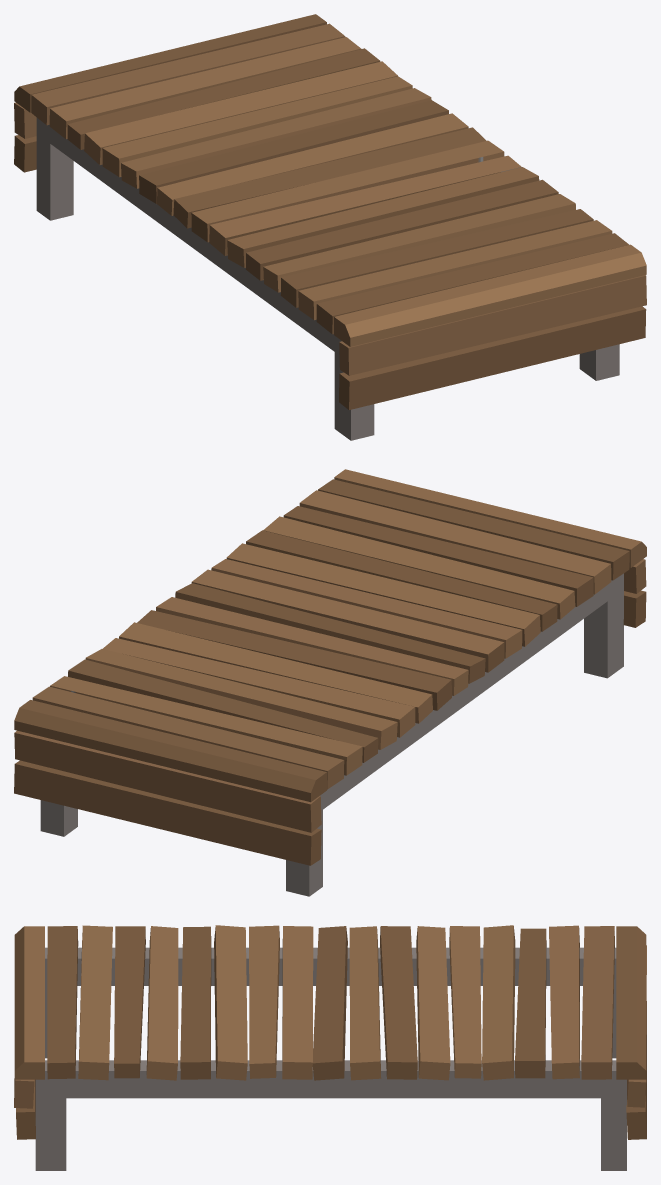
The model's file is Town_Bench_3.fbx.
3 renders of one model, top to bottom at view 1: azimuth 30°, elevation 25°; view 2: azimuth 150°, elevation 25°; view 3: azimuth 270°, elevation 25°, orthographic. The views are drawn at different scales.
Visible parts, largest first — view 1: Town_Becnh_3; view 2: Town_Becnh_3; view 3: Town_Becnh_3.
Part boxes in pixels (bbox=[...]): Town_Becnh_3: bbox=[14, 14, 646, 440]; Town_Becnh_3: bbox=[14, 469, 646, 896]; Town_Becnh_3: bbox=[14, 925, 646, 1170].
Bounding box in the file's own units: 122 × 48.8 × 238.
Materials: 1 (1 with a texture image).
